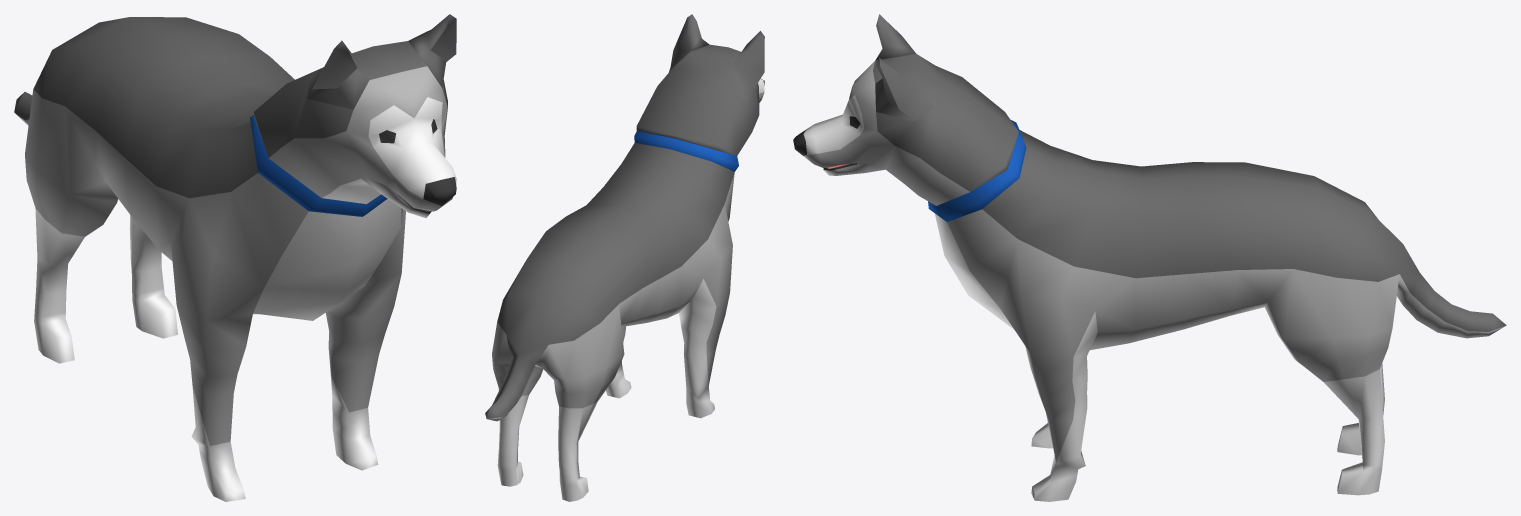
File: u_dog_dog_001_static.glb
3 renders of one model, left to right at view 1: azimuth 30°, elevation 25°; view 2: azimuth 150°, elevation 25°; view 3: azimuth 270°, elevation 25°, orthographic. The views are drawn at different scales.
Visible parts, largest first — view 1: Dog_001; view 2: Dog_001; view 3: Dog_001.
Boxes of the visible parts, x1,y1,x2,y2 form: Dog_001: (14,14,456,501); Dog_001: (485,14,764,501); Dog_001: (793,14,1506,501).
Size of the model in its own units: 0.3198 by 0.7869 by 1.17.
Materials: 1 (1 with a texture image).
